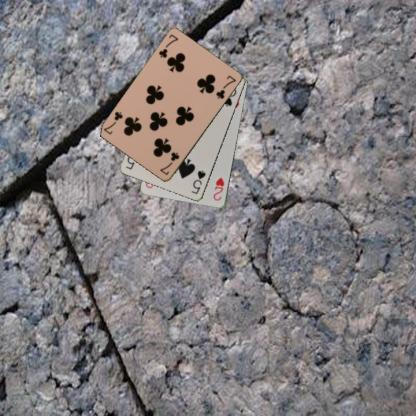2h: (211, 175, 226, 202)
5s: (189, 168, 207, 195)
7c: (156, 32, 180, 59), (157, 150, 181, 176)
